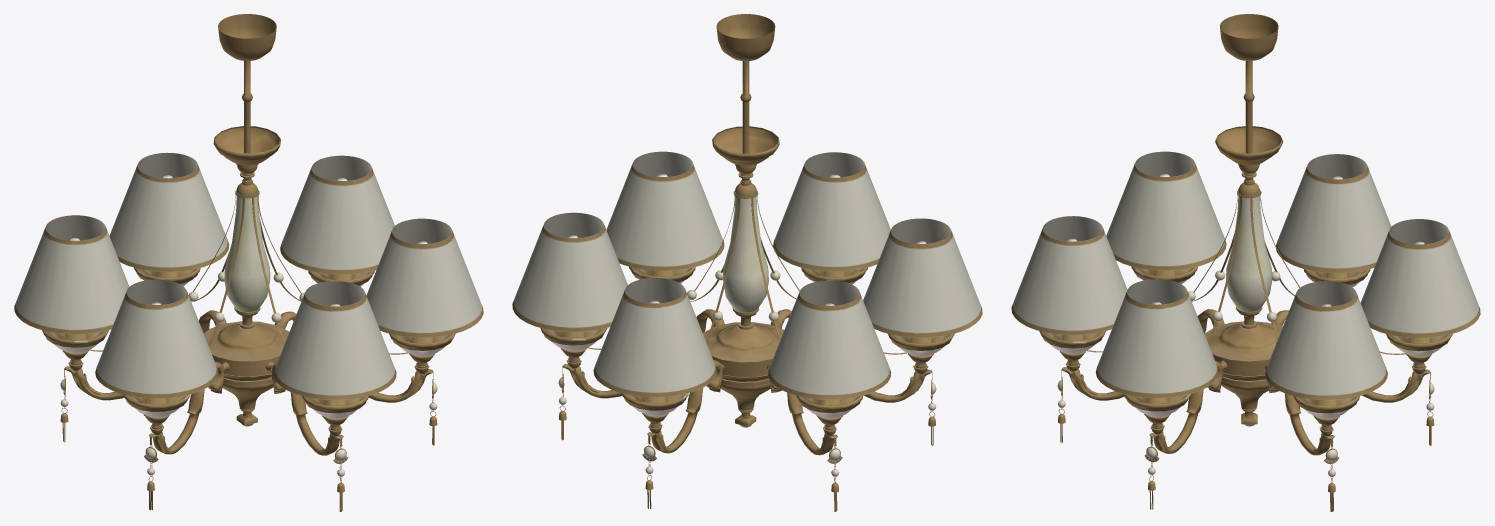
File: chandelier_01.glb
The picture shows the model from 3 angles, left to right: view 1: azimuth 30°, elevation 25°; view 2: azimuth 150°, elevation 25°; view 3: azimuth 270°, elevation 25°; orthographic projection.
Visible parts, largest first — view 1: Chandelier_01; view 2: Chandelier_01; view 3: Chandelier_01.
Part boxes in pixels (<box>): Chandelier_01: <box>14,14,483,511</box>; Chandelier_01: <box>512,14,982,511</box>; Chandelier_01: <box>1011,14,1480,511</box>.
Bounding box in the file's own units: 0.7465 × 0.7982 × 0.8155.
Materials: 2 (1 with a texture image).
